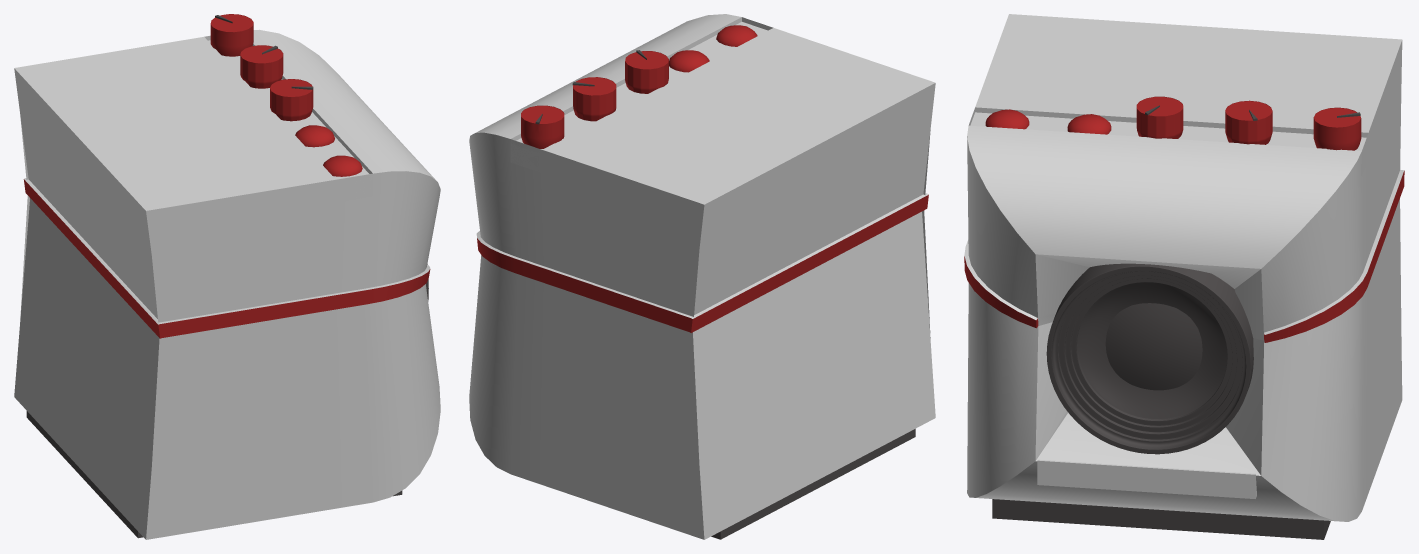
The model's file is bluetooth-speaker.glb.
3 views of the same model, side by side, from view 1: azimuth 30°, elevation 25°; view 2: azimuth 150°, elevation 25°; view 3: azimuth 270°, elevation 25° (orthographic). The views are drawn at different scales.
Parts seen in each view (by area): view 1: Base-white, Base-red, tone-knob2-red, tone-knob3-red, tone-knob1-red, Feet, on/off button, bt-button; view 2: Base-white, Base-red, Feet, tone-knob2-red, tone-knob1-red, tone-knob3-red, on/off button, bt-button; view 3: Base-white, Speaker, speaker-cone, Feet, Label, Base-red, tone-knob2-red, tone-knob1-red, tone-knob3-red, on/off button, bt-button.
Boxes of the visible parts, <box> form: Base-white: <box>14,29,440,539</box>; Base-red: <box>23,179,430,338</box>; tone-knob2-red: <box>240,45,283,88</box>; tone-knob3-red: <box>270,79,313,121</box>; tone-knob1-red: <box>210,14,253,56</box>; Feet: <box>26,411,402,538</box>; on/off button: <box>295,125,334,147</box>; bt-button: <box>323,155,362,176</box>; Base-white: <box>469,14,935,539</box>; Base-red: <box>477,194,928,332</box>; Feet: <box>711,429,915,539</box>; tone-knob2-red: <box>573,77,616,121</box>; tone-knob1-red: <box>521,105,564,148</box>; tone-knob3-red: <box>625,51,668,93</box>; on/off button: <box>669,50,709,72</box>; bt-button: <box>716,25,757,46</box>; Base-white: <box>964,14,1404,521</box>; Speaker: <box>1046,263,1253,454</box>; speaker-cone: <box>1105,303,1202,390</box>; Feet: <box>992,499,1330,539</box>; Label: <box>1037,459,1256,498</box>; Base-red: <box>964,170,1404,342</box>; tone-knob2-red: <box>1225,100,1272,144</box>; tone-knob1-red: <box>1313,107,1361,150</box>; tone-knob3-red: <box>1136,96,1183,138</box>; on/off button: <box>1067,114,1111,134</box>; bt-button: <box>985,109,1029,129</box>.
Bounding box in the file's own units: 1.94 × 2.02 × 2.03.
